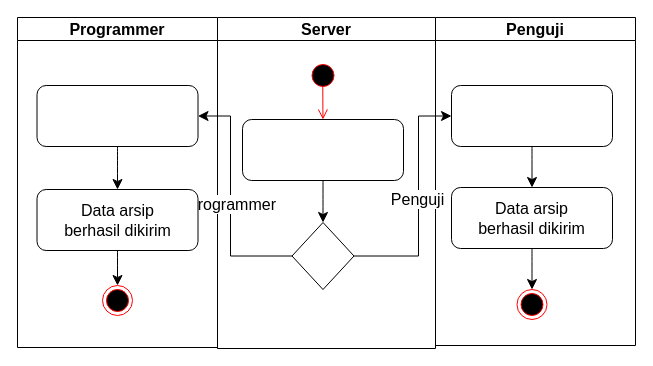
Some shapes in this 653 by 366 pixel diagram are drawn without their labels. Each missing label, with the centre of its shape:
"Dapat mengakses seluruh arsip penilaian" goes at [531,115].
"Hanya dapat mengakses penilaian sendiri" goes at [117,115].
"Menerima akses pengelolaan arsip penilaian" goes at [323,149].
